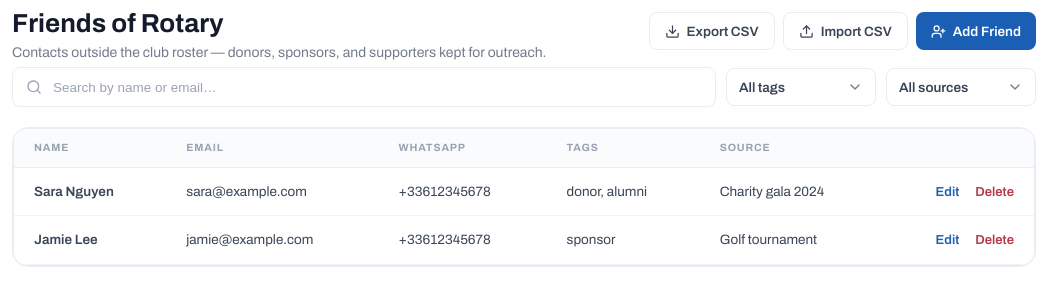
Test: RotaryFriendsList › lets an admin delete a friend after confirmation
Click the button "Delete" in the row of "Nguyen" at (995, 192), box [975,185,1014,199]
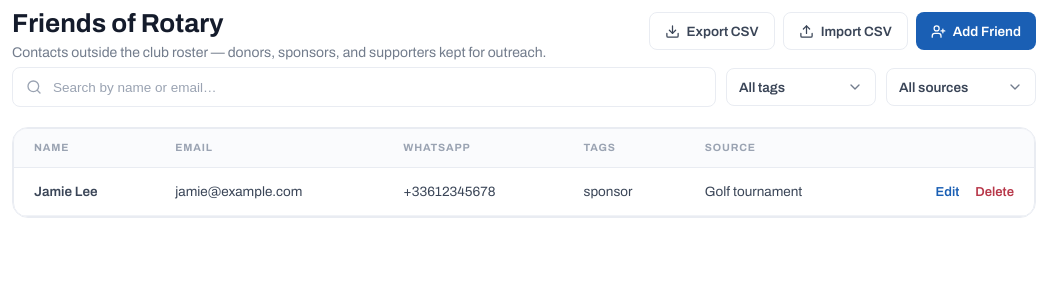
Check: the text "Jamie Lee" is shown, box [14,168,155,216]
Check: the text "Sara Nguyen" is gone
